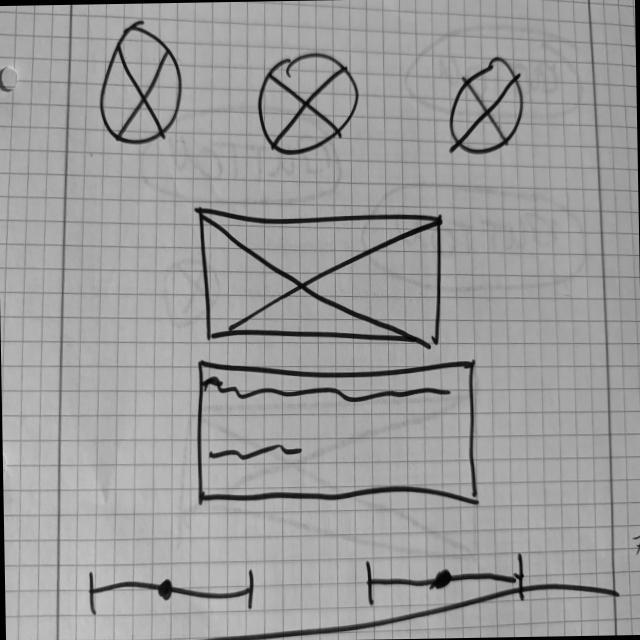image: (198, 201, 446, 350), (96, 24, 186, 149), (255, 52, 360, 157), (447, 54, 528, 158)
slider: (361, 552, 527, 610), (86, 568, 258, 622)
textarea: (195, 356, 483, 511)
